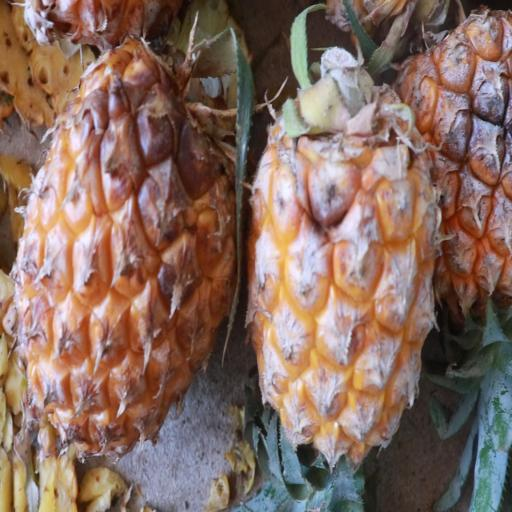Pineapple - v8 v1: (14, 22, 240, 466), (246, 39, 447, 512)
